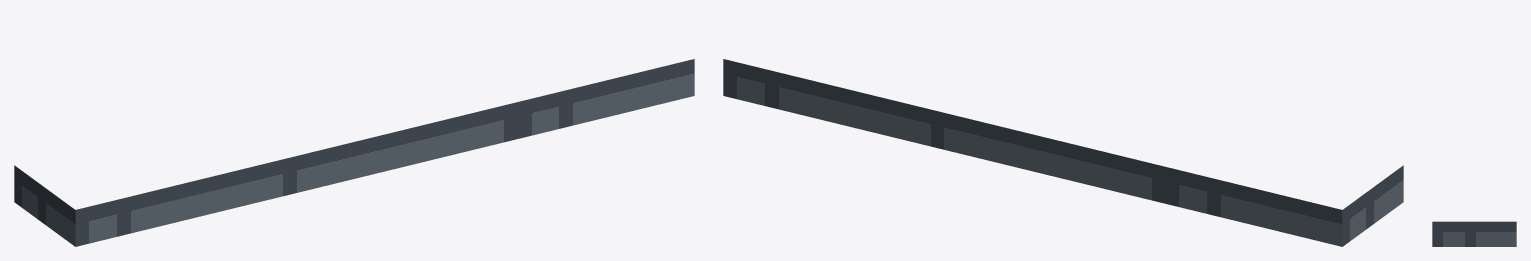
File: lamp.glb
The picture shows the model from 3 angles, left to right: view 1: azimuth 30°, elevation 25°; view 2: azimuth 150°, elevation 25°; view 3: azimuth 270°, elevation 25°; orthographic projection. The views are drawn at different scales.
Visible parts, largest first — view 1: lamp mesh; view 2: lamp mesh; view 3: lamp mesh.
Part boxes in pixels (left/top/right/bottom): lamp mesh: left=14, top=59, right=694, bottom=246; lamp mesh: left=723, top=59, right=1403, bottom=246; lamp mesh: left=1432, top=221, right=1516, bottom=246.
Size of the model in its own units: 1.4 by 0.09 by 0.24.
2 materials, 2 textured.
